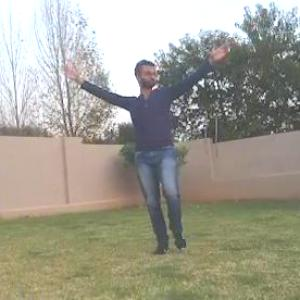takeoff: (63, 25, 245, 267)
